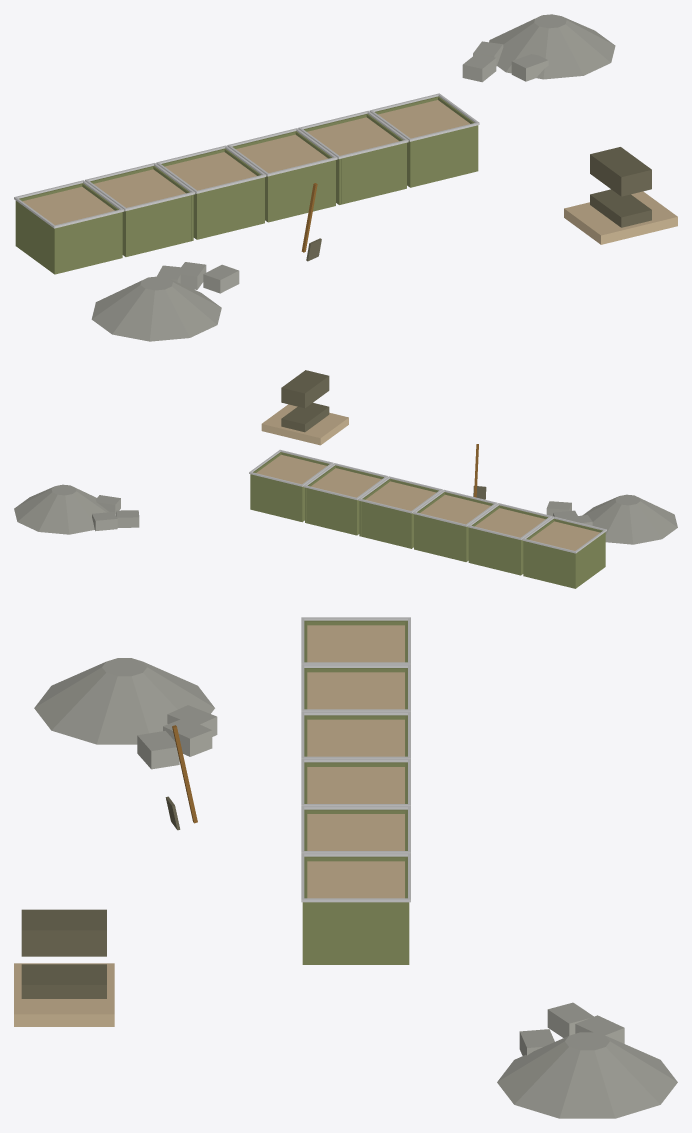
File: SM_ObraReconstruccion_v4_10m_LOD0.fbx
3 views of the same model, one above another, from view 1: azimuth 30°, elevation 25°; view 2: azimuth 150°, elevation 25°; view 3: azimuth 270°, elevation 25° (orthographic). The views are drawn at different scales.
Visible parts, largest first — view 1: SM_obra_curso_v49_LOD0; view 2: SM_obra_curso_v49_LOD0; view 3: SM_obra_curso_v49_LOD0.
Boxes of the visible parts, x1,y1,x2,y2 form: SM_obra_curso_v49_LOD0: [14, 14, 677, 341]; SM_obra_curso_v49_LOD0: [14, 370, 677, 588]; SM_obra_curso_v49_LOD0: [14, 617, 677, 1118].
Bounding box in the file's own units: 10.51 × 1.11 × 6.6.
